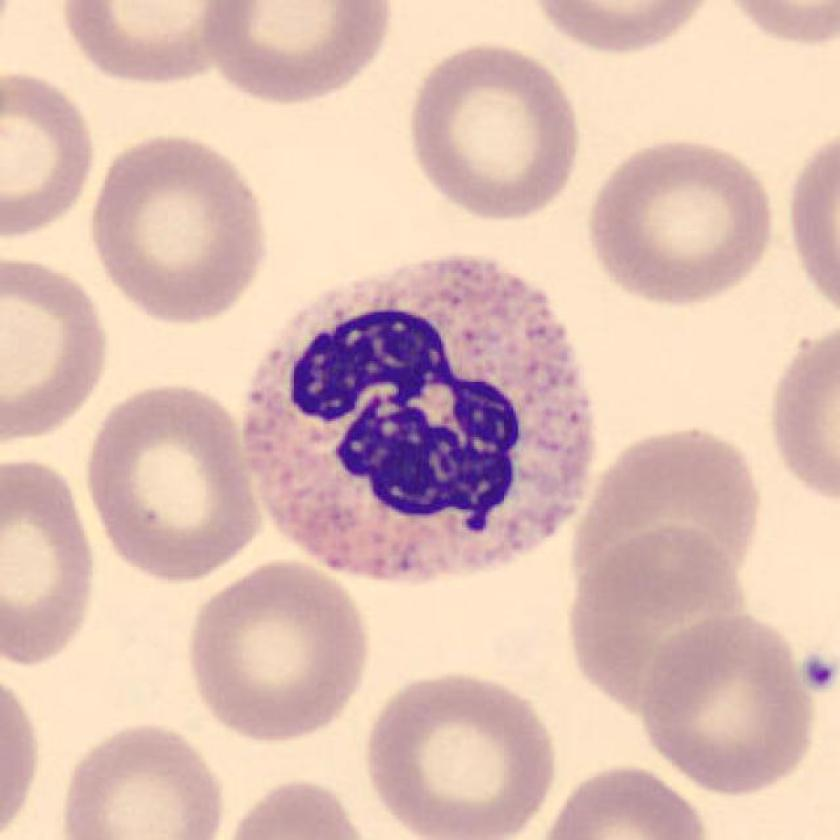neutrophil: (244, 259, 592, 576)
